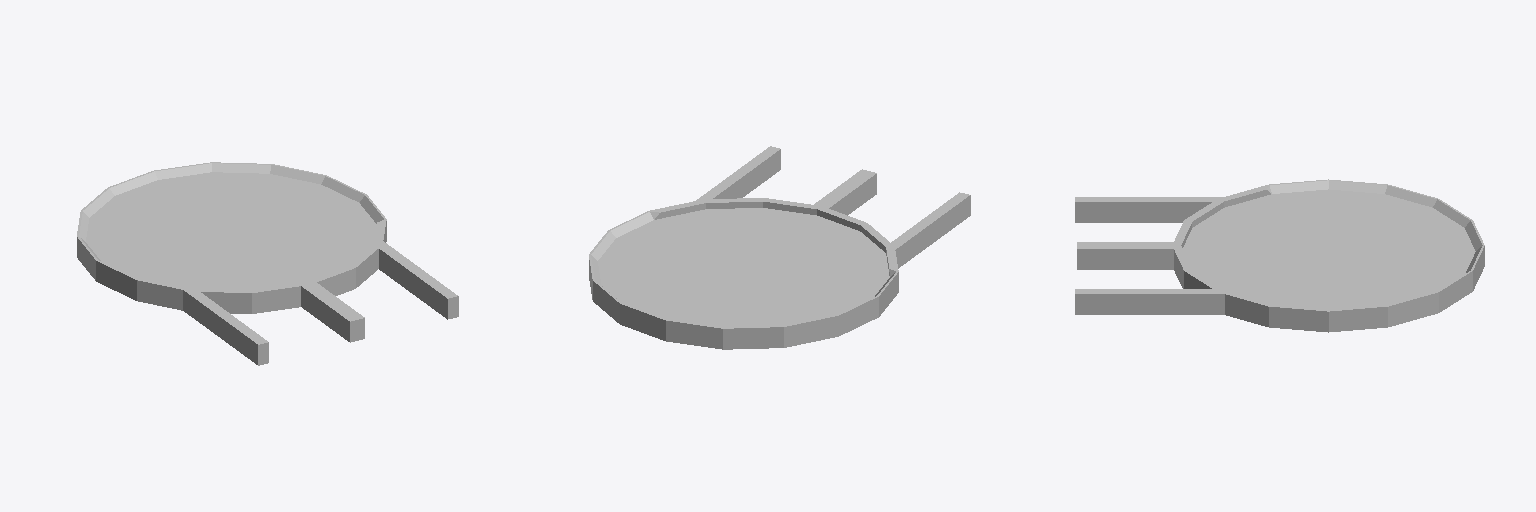
The model's file is circularsign.obj.
3 views of the same model, side by side, from view 1: azimuth 30°, elevation 25°; view 2: azimuth 150°, elevation 25°; view 3: azimuth 270°, elevation 25° (orthographic).
Parts seen in each view (by area): view 1: Cylinder1; view 2: Cylinder1; view 3: Cylinder1.
Part boxes in pixels (left/top/right/bottom): Cylinder1: left=77, top=162, right=458, bottom=365; Cylinder1: left=589, top=146, right=970, bottom=349; Cylinder1: left=1075, top=179, right=1484, bottom=332.
Size of the model in its own units: 2 by 0.148 by 2.62.